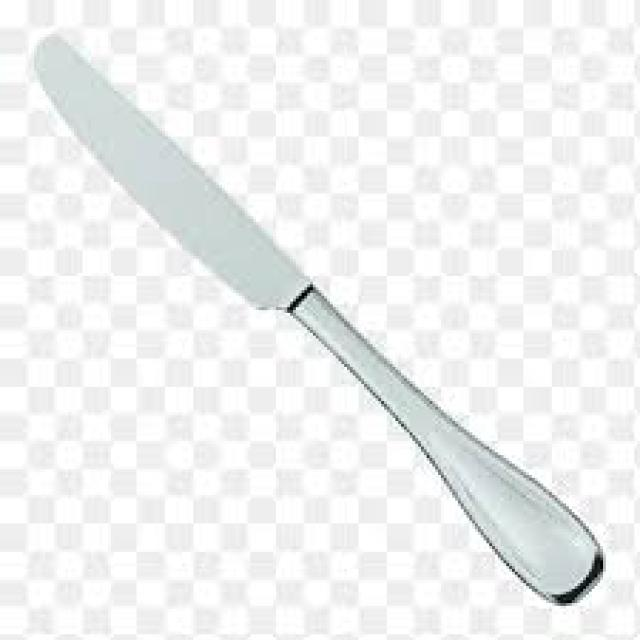Knife: (34, 34, 603, 603)
